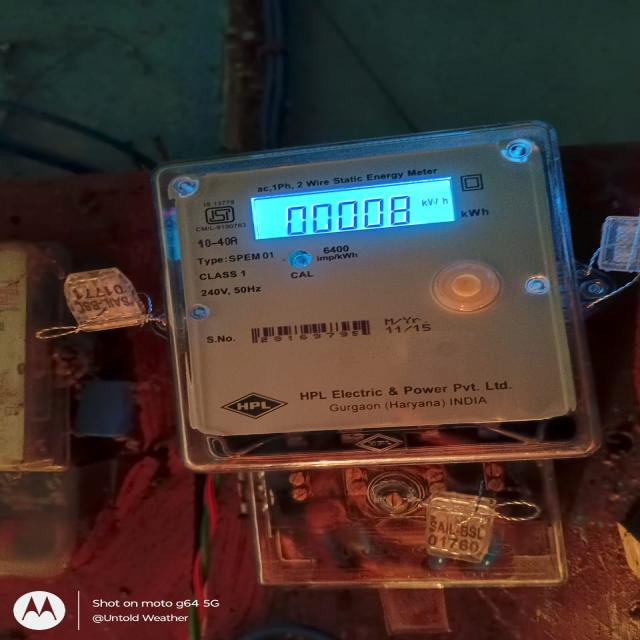display: (236, 190, 452, 241)
